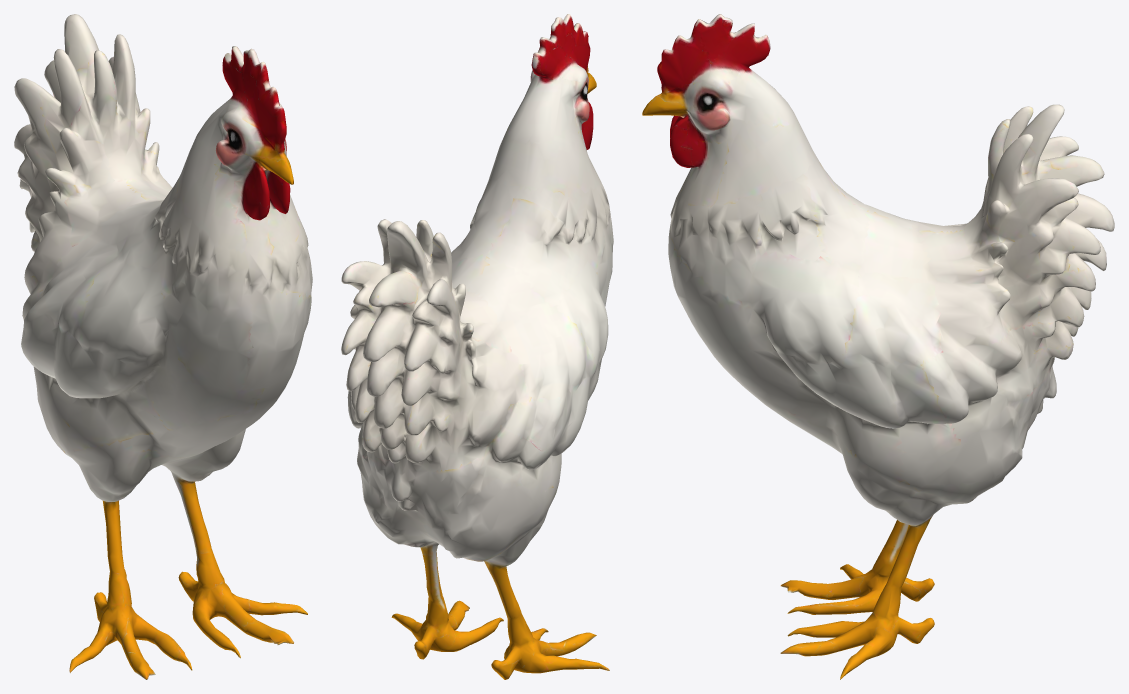
File: chicken.glb
3 views of the same model, side by side, from view 1: azimuth 30°, elevation 25°; view 2: azimuth 150°, elevation 25°; view 3: azimuth 270°, elevation 25° (orthographic). The views are drawn at different scales.
Size of the model in its own units: 0.7351 by 1.9 by 1.33.
1 material, 1 textured.
